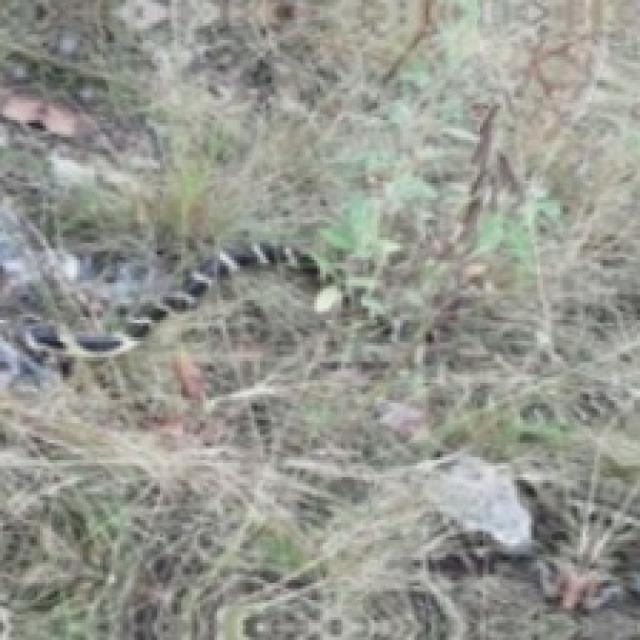king cobra: (0, 217, 331, 397)
